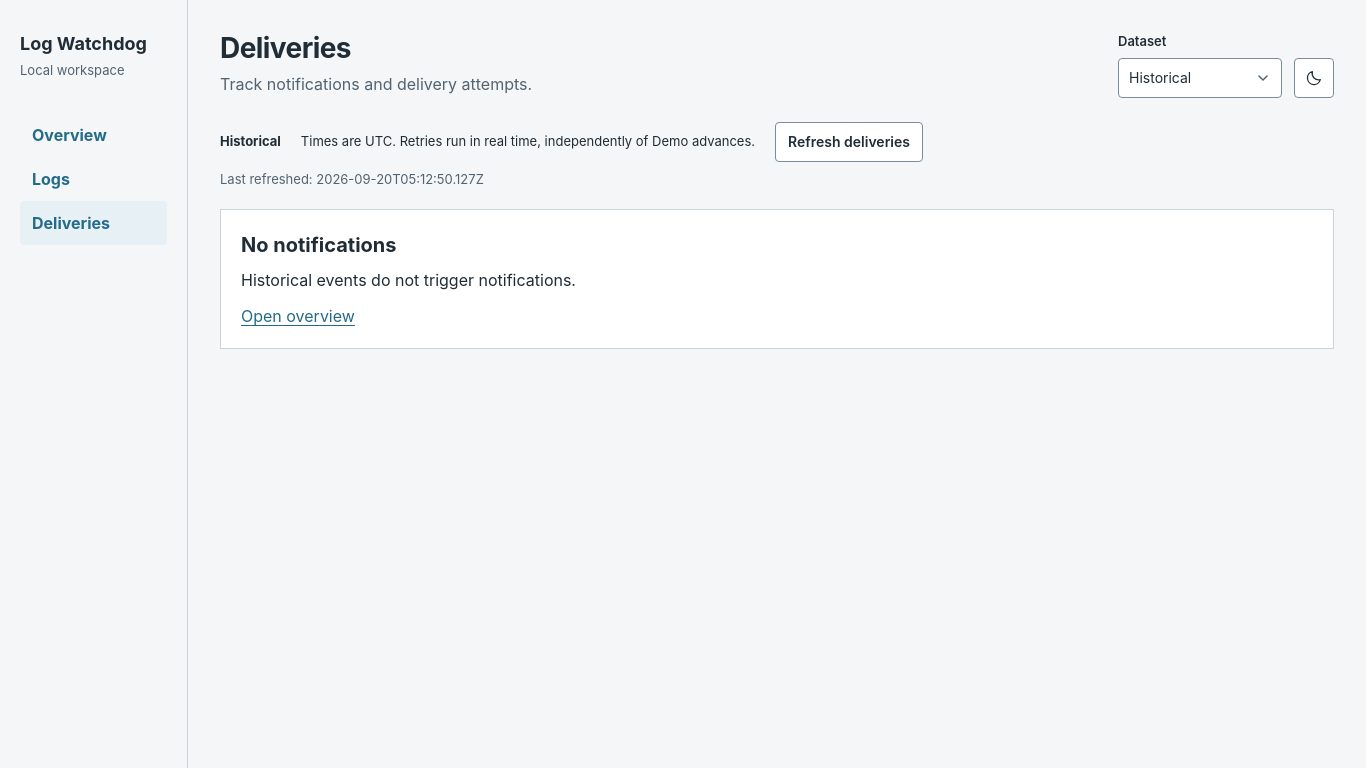
Test: opens Live Overview from Historical Deliveries via Overview
Expected: the text "Historical events do not trigger notifications." is shown, [241, 270, 576, 290]
What coordinates should you click on to do the following:
click the link "Overview"
I would click on:
 (69, 134)
Its box is [32, 124, 107, 144].
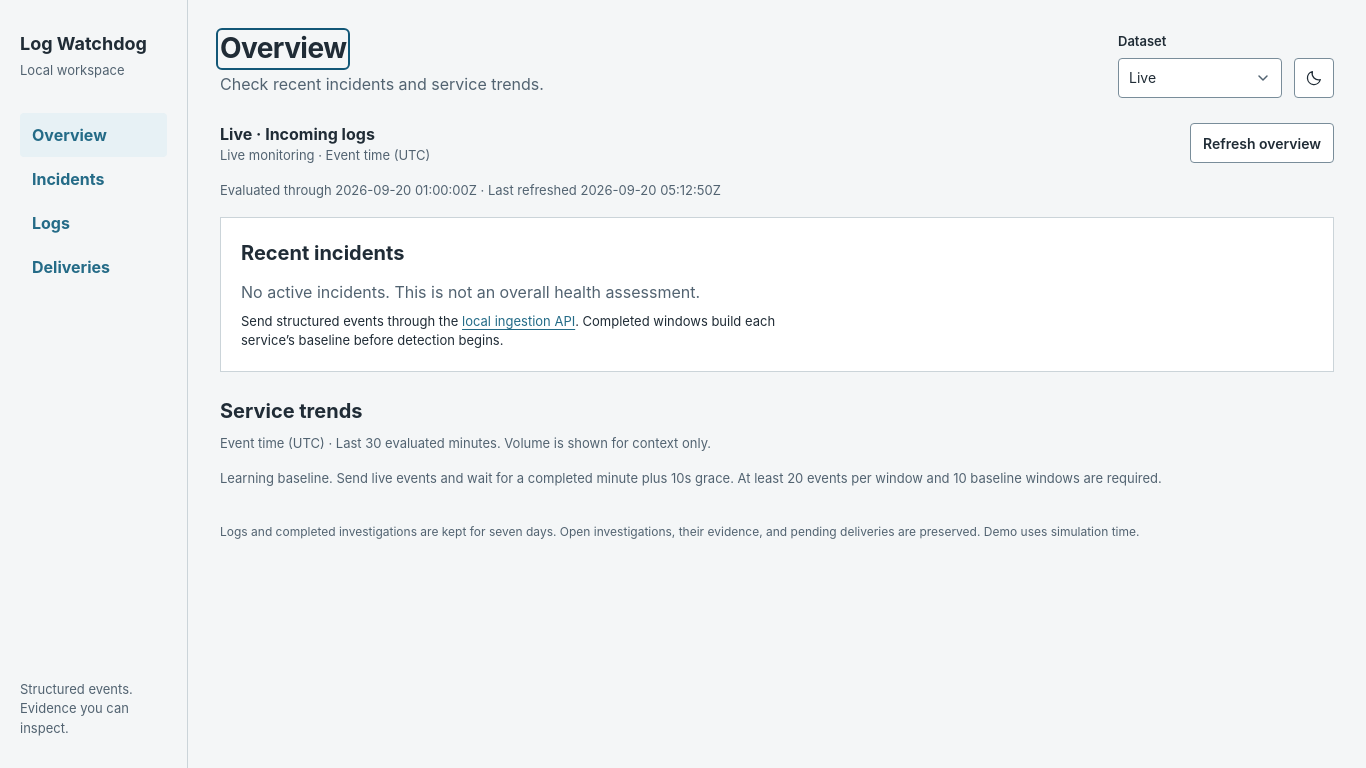
Expected: the heading "Overview" is shown, [220, 32, 346, 66]
Expected: the text "Live · Incoming logs" is shown, [220, 124, 375, 144]
Expected: the dropdown labelled "Dataset" shows "Live", [1118, 58, 1282, 98]
